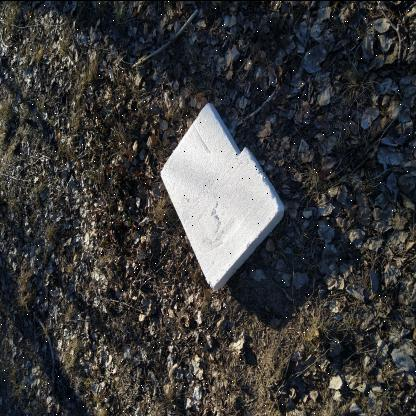foam: (160, 103, 285, 289)
